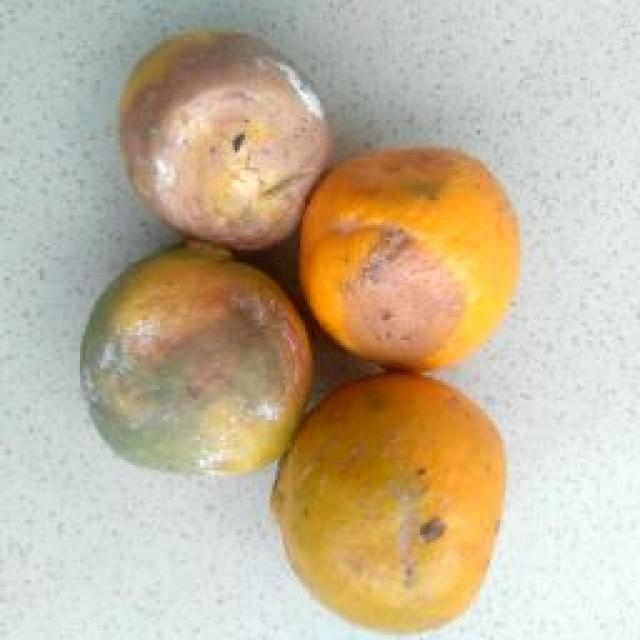Bad_Orange: (81, 246, 311, 472), (300, 148, 519, 369), (121, 31, 330, 249)
